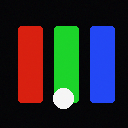2 circle: (53, 88, 73, 108)
